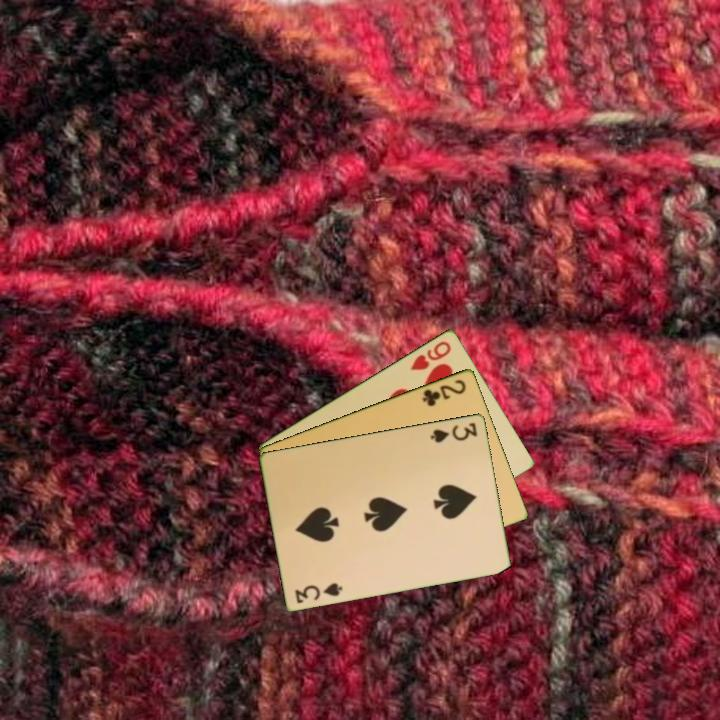2c: (419, 375, 469, 409)
3s: (291, 579, 346, 606), (427, 419, 480, 445)
9h: (407, 337, 454, 373)
